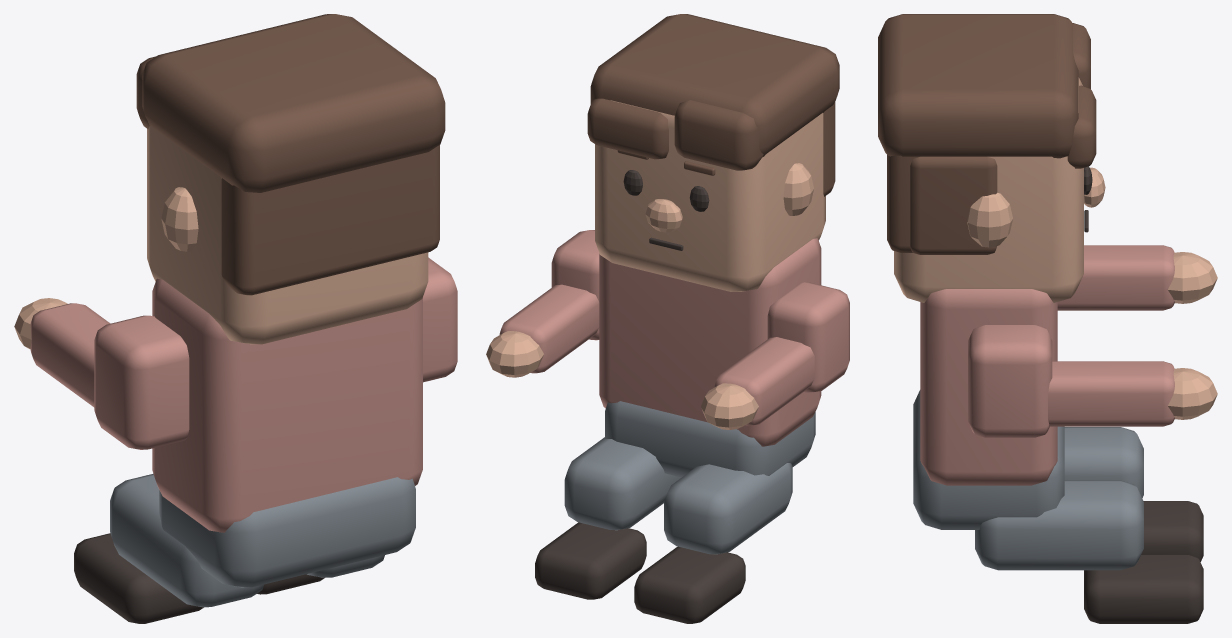
The model's file is worker.glb.
3 renders of one model, left to right at view 1: azimuth 30°, elevation 25°; view 2: azimuth 150°, elevation 25°; view 3: azimuth 270°, elevation 25°, orthographic. The views are drawn at different scales.
Parts seen in each view (by area): view 1: head_pivot_hair, worker_root_shirt, worker_root_pants, head_pivot_skin, arm_l_pivot_shirt, worker_root_face, arm_r_pivot_shirt, arm_l_pivot_skin; view 2: head_pivot_skin, head_pivot_hair, worker_root_pants, worker_root_shirt, worker_root_face, arm_l_pivot_shirt, arm_r_pivot_shirt, hair_swept_hair, arm_l_pivot_skin, arm_r_pivot_skin, head_pivot_face; view 3: head_pivot_hair, worker_root_pants, head_pivot_skin, arm_r_pivot_shirt, worker_root_shirt, worker_root_face, hair_swept_hair, arm_l_pivot_shirt, arm_r_pivot_skin, arm_l_pivot_skin.
Boxes of the visible parts, <box> form: head_pivot_hair: <box>136,14,445,295</box>; worker_root_shirt: <box>152,278,422,532</box>; worker_root_pants: <box>110,473,415,607</box>; head_pivot_skin: <box>147,126,428,344</box>; arm_l_pivot_shirt: <box>30,303,189,449</box>; worker_root_face: <box>74,533,324,623</box>; arm_r_pivot_shirt: <box>423,257,457,382</box>; arm_l_pivot_skin: <box>14,298,67,349</box>; head_pivot_skin: <box>595,100,825,291</box>; head_pivot_hair: <box>590,14,839,196</box>; worker_root_pants: <box>564,401,815,554</box>; worker_root_shirt: <box>599,238,821,446</box>; worker_root_face: <box>535,522,745,623</box>; arm_l_pivot_shirt: <box>714,282,849,425</box>; arm_r_pivot_shirt: <box>499,230,599,373</box>; hair_swept_hair: <box>587,98,668,159</box>; arm_l_pivot_skin: <box>701,383,758,429</box>; arm_r_pivot_skin: <box>486,331,543,377</box>; head_pivot_face: <box>623,170,709,250</box>; head_pivot_hair: <box>878,14,1090,252</box>; worker_root_pants: <box>913,390,1143,570</box>; head_pivot_skin: <box>894,77,1105,302</box>; arm_r_pivot_shirt: <box>968,325,1174,437</box>; worker_root_shirt: <box>920,289,1057,485</box>; worker_root_face: <box>1084,501,1203,623</box>; hair_swept_hair: <box>910,85,1096,254</box>; arm_l_pivot_shirt: <box>1057,245,1174,310</box>; arm_r_pivot_skin: <box>1168,368,1217,419</box>; arm_l_pivot_skin: <box>1168,252,1217,303</box>.
Bounding box in the file's own units: 0.99 × 1.67 × 0.965.
